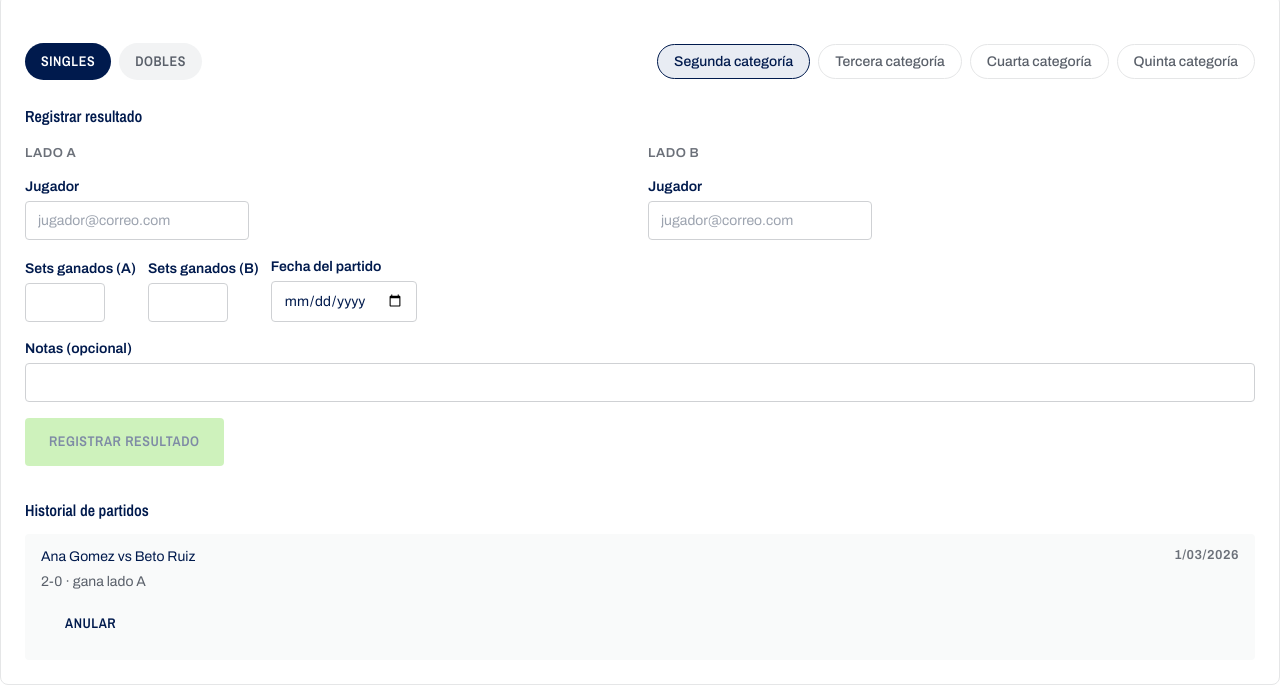
Test: CompetitionPage › voiding a match requires a reason and refreshes the history to show VOID
(page scrolled)
expect the text "Ana Gomez vs Beto Ruiz" is shown: met, box [41,546,195,566]
Click the button "Anular" at (91, 624), box [41,600,140,648]
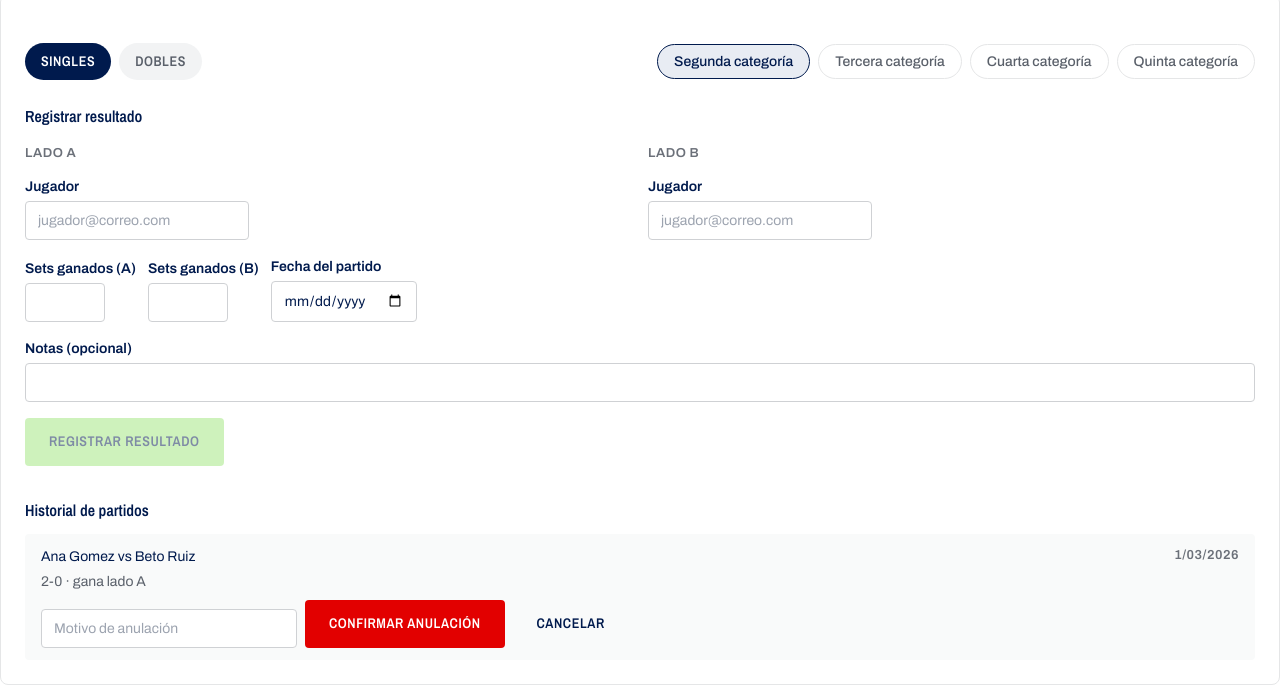
Click the button "Confirmar anulación" at (405, 624), box [305,600,504,648]
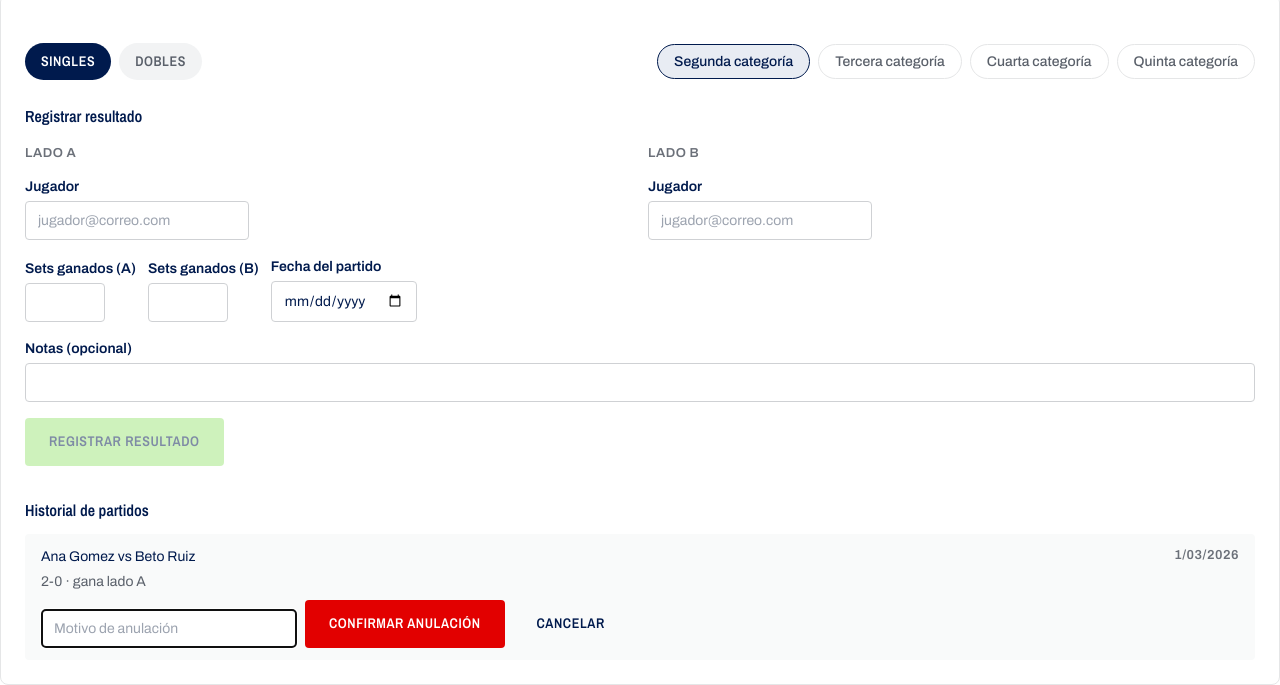
Type "resultado incorrecto" into the field with placeholder "Motivo de anulación" at (169, 628), box [41,608,297,648]
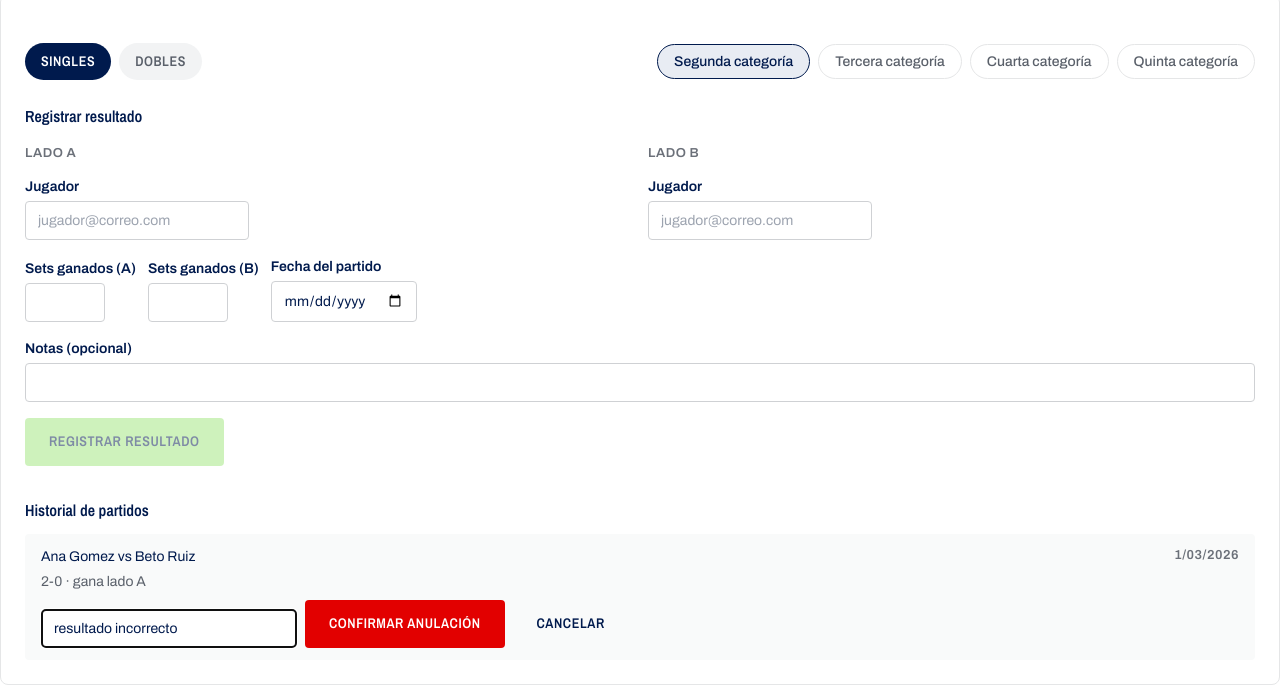
Click the button "Confirmar anulación" at (405, 624), box [305,600,504,648]
(page scrolled)
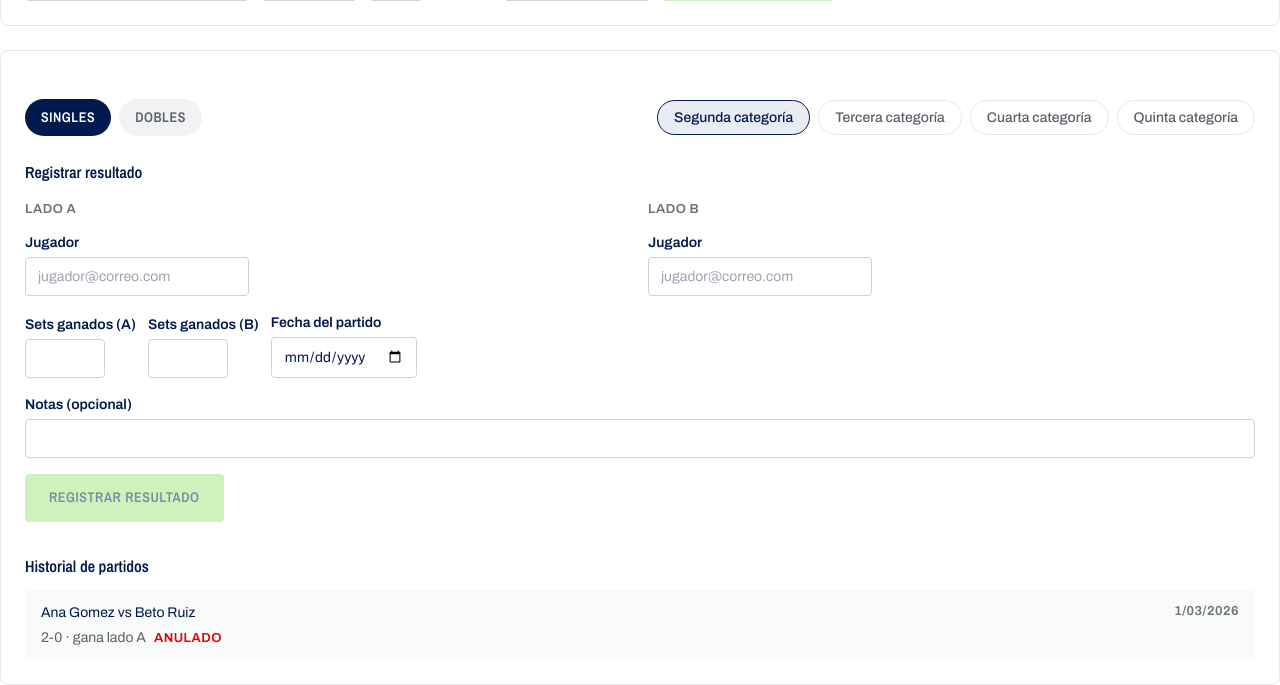
expect the text "Anulado" is shown: met, box [154,630,222,644]
